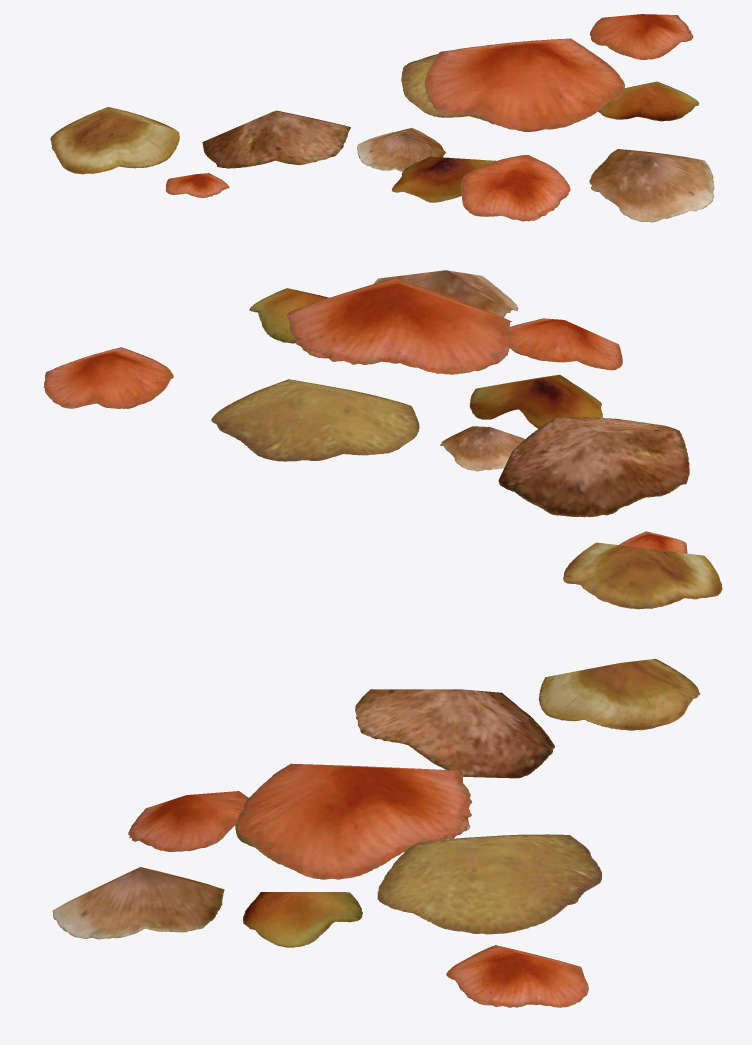
The model's file is fngi_mushroom_clump_a3_l1.fbx.
The picture shows the model from 3 angles, top to bottom: view 1: azimuth 30°, elevation 25°; view 2: azimuth 150°, elevation 25°; view 3: azimuth 270°, elevation 25°; orthographic projection. The views are drawn at different scales.
Visible parts, largest first — view 1: mesh_node; view 2: mesh_node; view 3: mesh_node.
Boxes of the visible parts, x1,y1,x2,y2 form: mesh_node: [50, 14, 714, 222]; mesh_node: [43, 270, 722, 609]; mesh_node: [52, 658, 700, 1007].
Size of the model in its own units: 1.51 by 0.2718 by 1.16.
